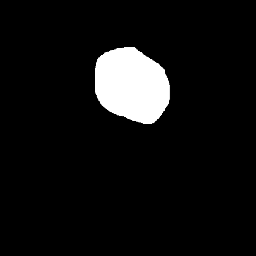mass: (97, 53, 169, 122)
